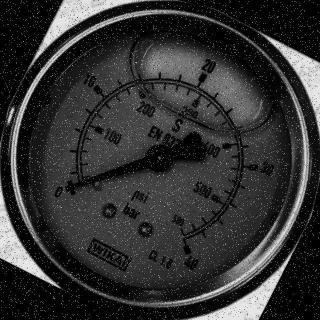gauge: (0, 0, 320, 320), (40, 163, 92, 215), (168, 233, 206, 275), (141, 140, 177, 176), (60, 179, 78, 197)
